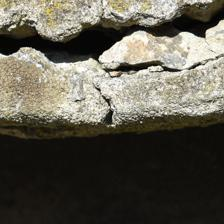Crack: (92, 181, 168, 224), (79, 92, 145, 127)
